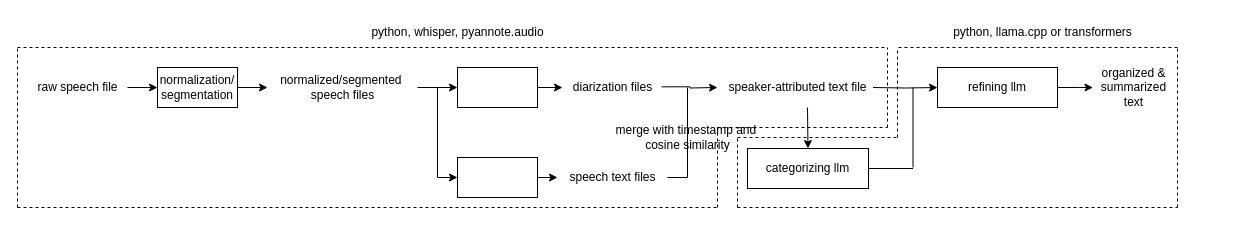
This 1240x226 diagram has some shape labels left out. The shapes that lost their labels are listed below. From the top down, each one's centre as x and y in pixels, then its label:
At point (497, 87): "1. diarization".
At point (497, 177): "2. speech to text".
